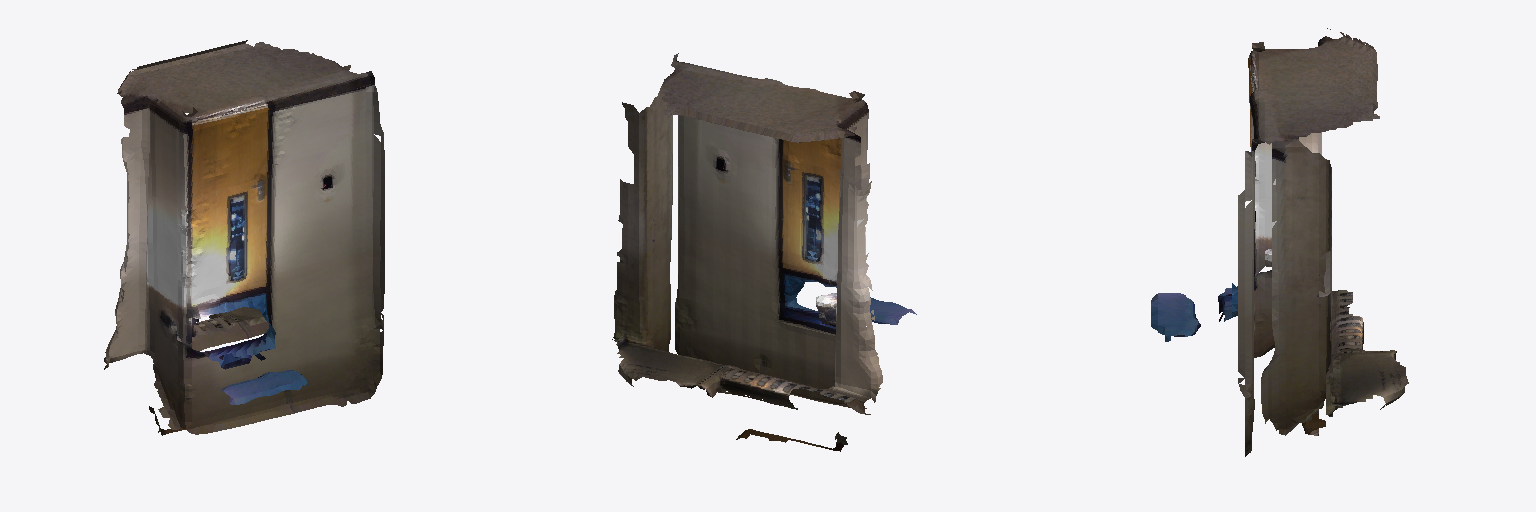
3 renders of one model, left to right at view 1: azimuth 30°, elevation 25°; view 2: azimuth 150°, elevation 25°; view 3: azimuth 270°, elevation 25°, orthographic.
Size of the model in its own units: 3.2 by 4.04 by 2.72.
1 materials, 1 textured.